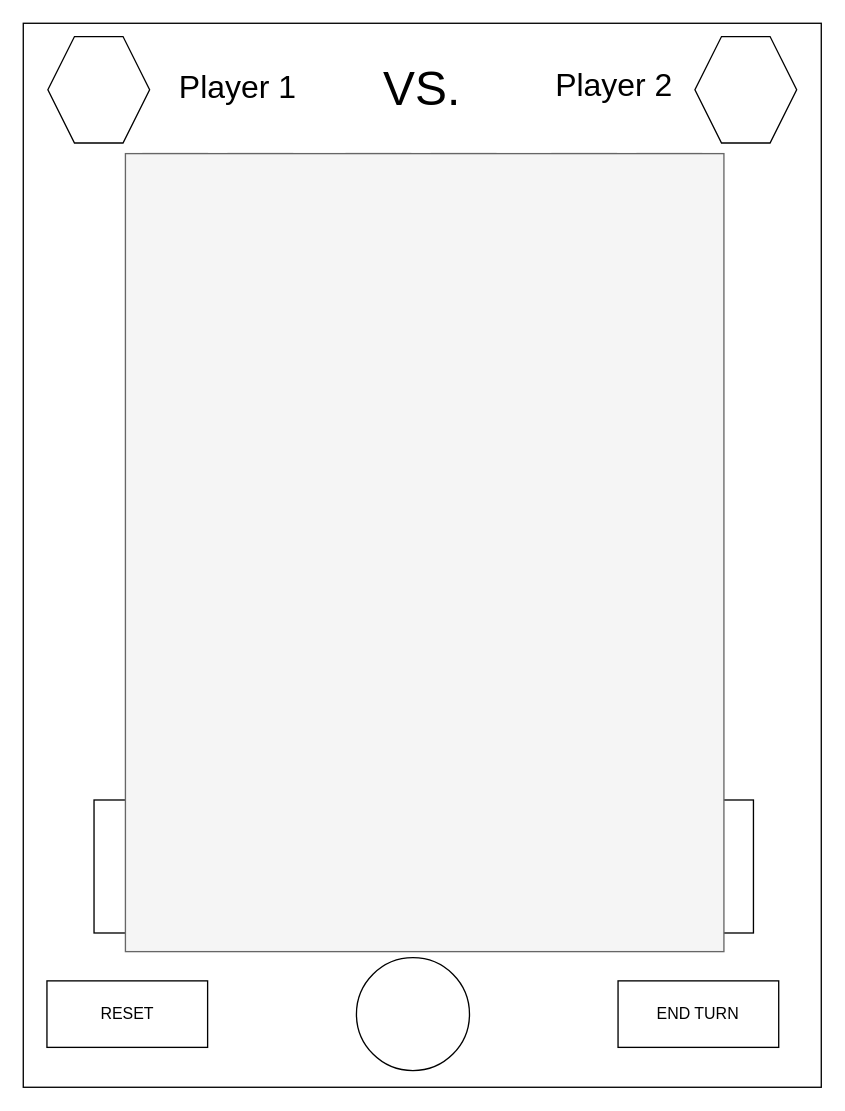
This 845x1111 diagram has some shape labels left out. The centre of each missing label's shape, as x and y in pixels:
"Crackle" goes at [412,1013].
"POP UP with Card details" goes at [424,552].
